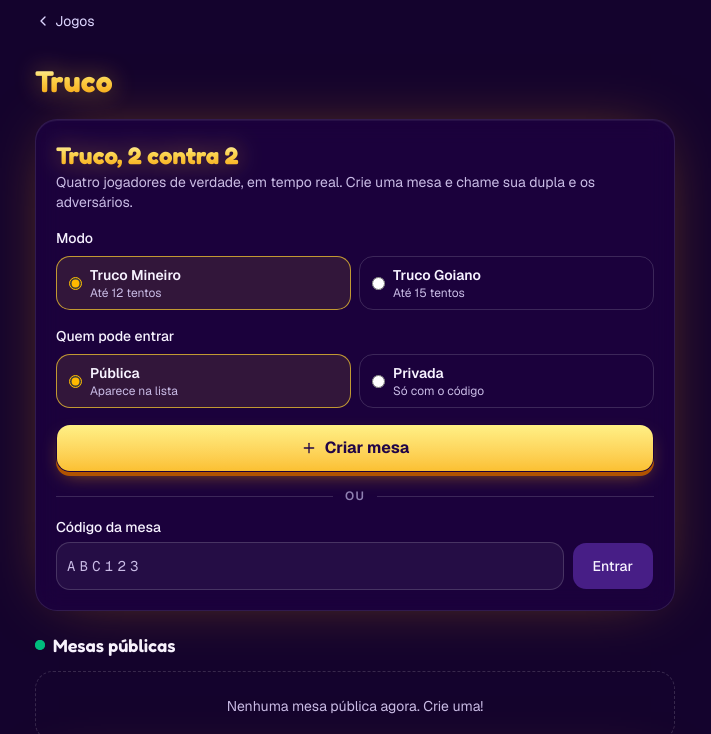
TrucoHome › shows why a table could not be created
The width and height of the screenshot is (711, 734).
Click the button "Criar mesa": point(355, 448) [56,424,654,472]
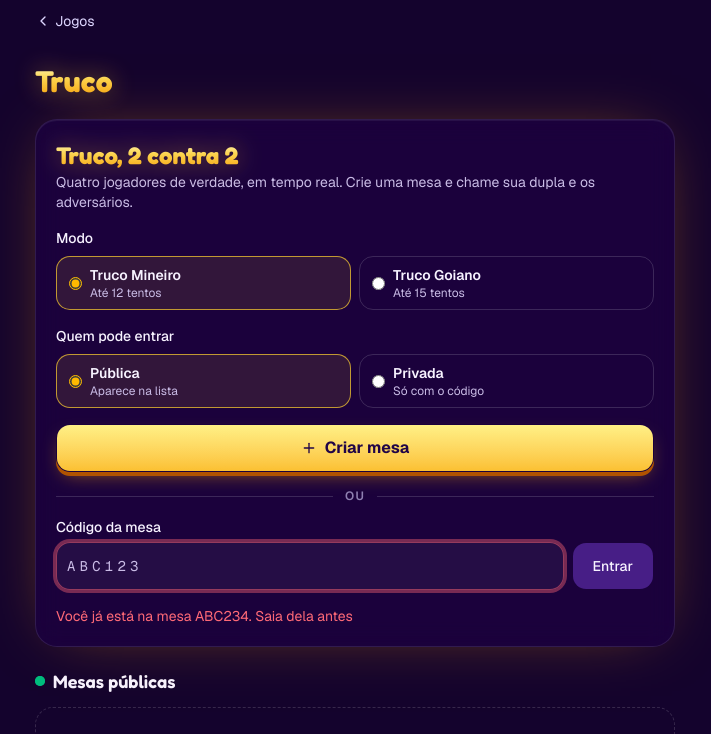
Expected: the message shows "ABC234", [56,607,353,625]
